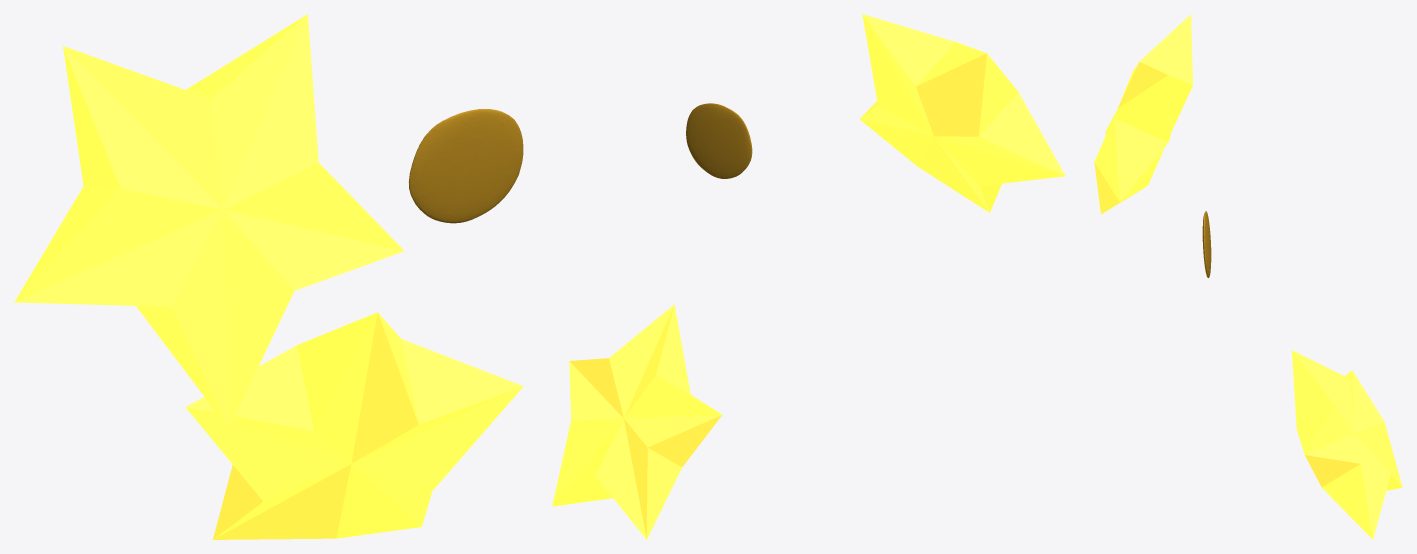
Rendered from stardust.fbx.
3 views of the same model, side by side, from view 1: azimuth 30°, elevation 25°; view 2: azimuth 150°, elevation 25°; view 3: azimuth 270°, elevation 25° (orthographic). The views are drawn at different scales.
Parts seen in each view (by area): view 1: Sphere, Sphere.001; view 2: Sphere, Sphere.001; view 3: Sphere, Sphere.001.
Part boxes in pixels (<box>): Sphere: <box>14,14,523,539</box>; Sphere.001: <box>408,109,523,223</box>; Sphere: <box>552,14,1065,539</box>; Sphere.001: <box>686,103,752,178</box>; Sphere: <box>1094,14,1402,539</box>; Sphere.001: <box>1202,211,1211,277</box>.
Size of the model in its own units: 17.04 by 18.28 by 13.12.
